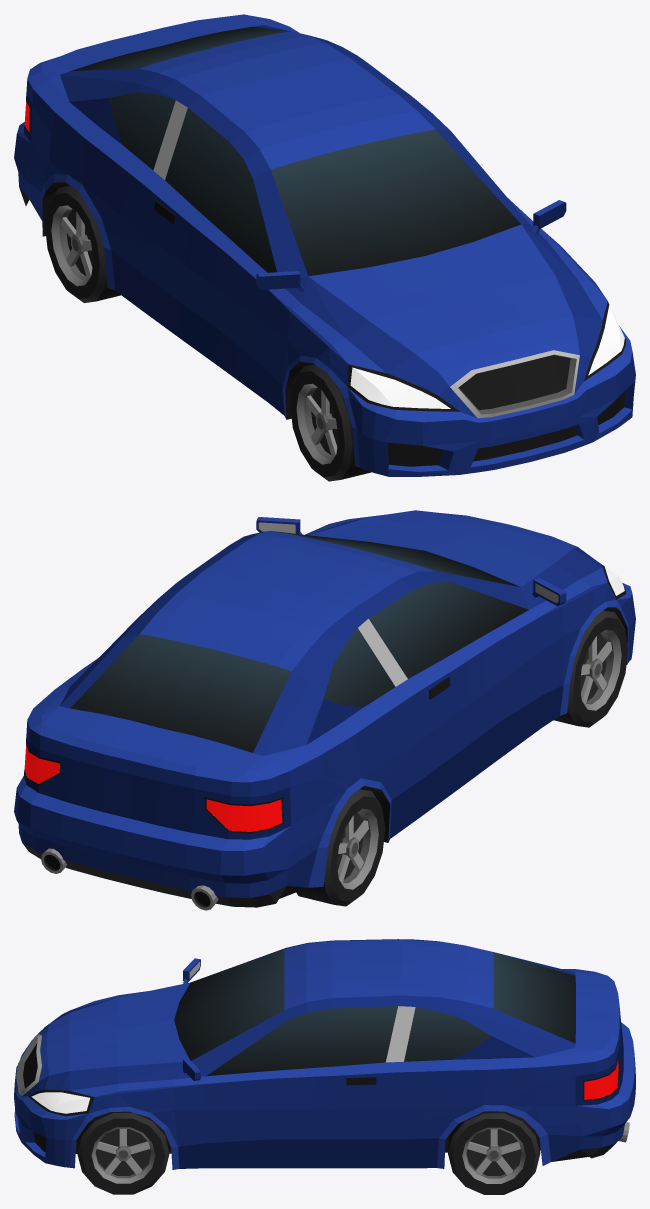
Rendered from car_coupe.glb.
3 renders of one model, top to bottom at view 1: azimuth 30°, elevation 25°; view 2: azimuth 150°, elevation 25°; view 3: azimuth 270°, elevation 25°, orthographic. The views are drawn at different scales.
Visible parts, largest first — view 1: Chassis_Body, Wheel_FR, Wheel_RR; view 2: Chassis_Body, Wheel_RR, Wheel_FR; view 3: Chassis_Body, Wheel_RL, Wheel_FL.
Boxes of the visible parts, left/top/right/bottom form: Chassis_Body: left=14, top=14, right=635, bottom=476; Wheel_FR: left=290, top=363, right=371, bottom=481; Wheel_RR: left=45, top=185, right=120, bottom=302; Chassis_Body: left=14, top=510, right=635, bottom=910; Wheel_RR: left=296, top=788, right=385, bottom=906; Wheel_FR: left=554, top=610, right=628, bottom=727; Chassis_Body: left=14, top=939, right=635, bottom=1169; Wheel_RL: left=448, top=1111, right=540, bottom=1194; Wheel_FL: left=77, top=1111, right=169, bottom=1194.
Bounding box in the file's own units: 1.94 × 1.41 × 4.46.
Materials: 2 (2 with a texture image).
